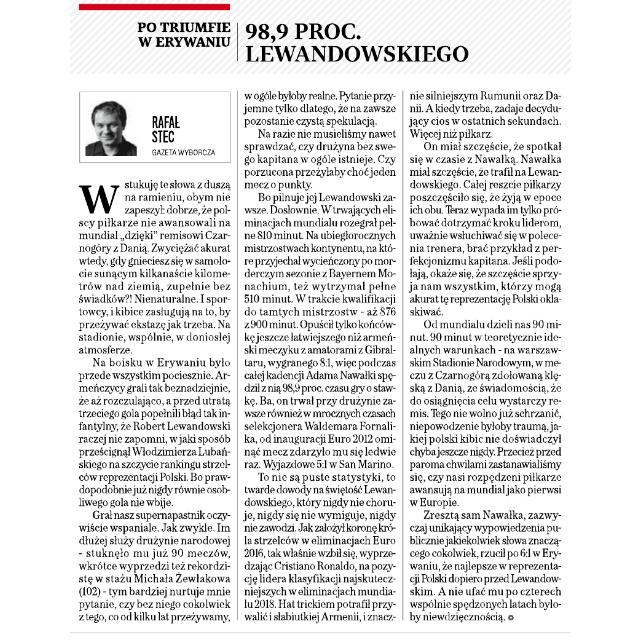author: (145, 110, 187, 146)
body: (404, 89, 564, 624), (240, 89, 398, 625), (72, 175, 235, 627)
title: (130, 15, 473, 66)
